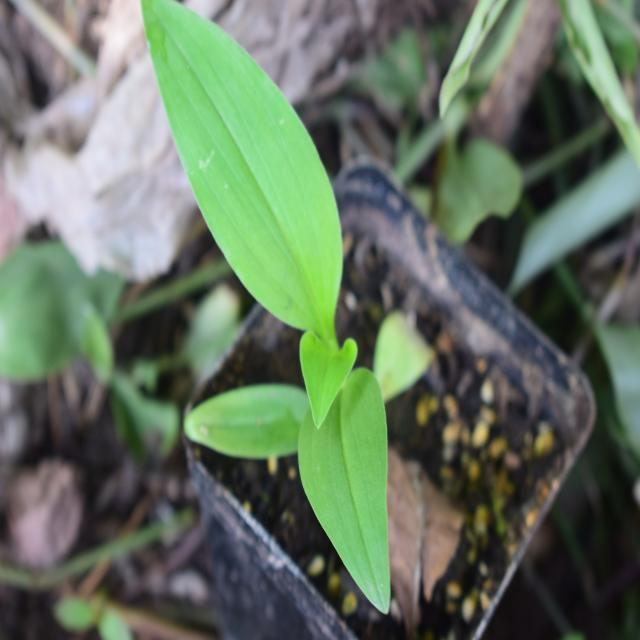Common Dayflower: (125, 2, 421, 604)
